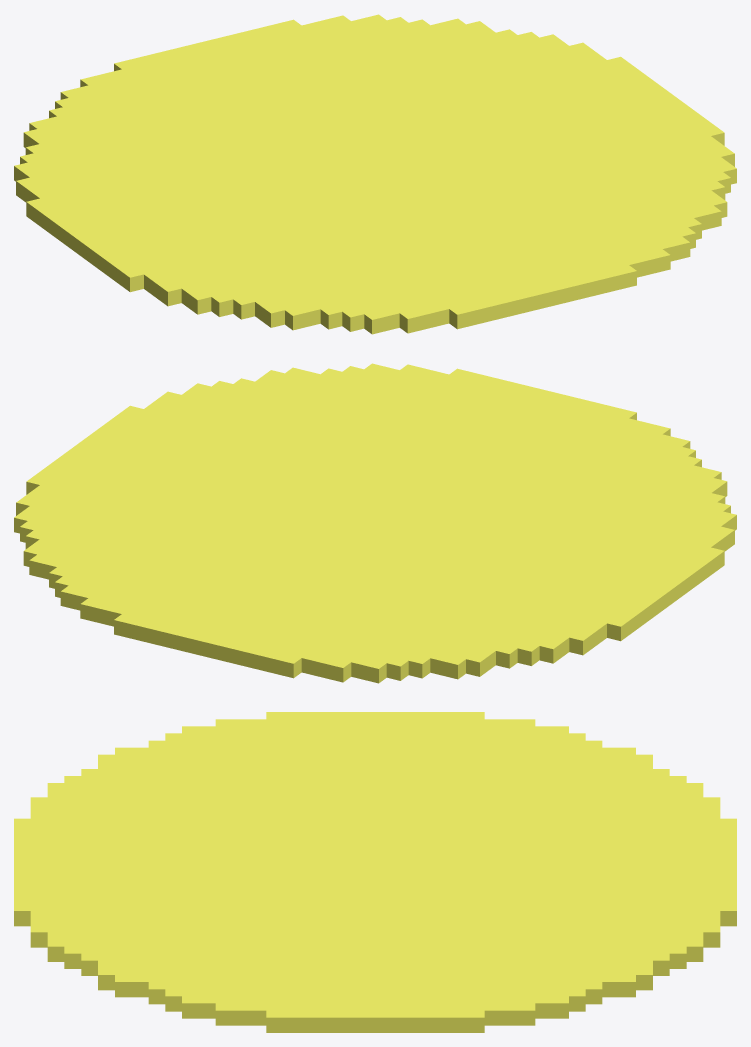
Rendered from YellowBall.obj.
3 views of the same model, one above another, from view 1: azimuth 30°, elevation 25°; view 2: azimuth 150°, elevation 25°; view 3: azimuth 270°, elevation 25° (orthographic). The views are drawn at different scales.
Bounding box in the file's own units: 43 × 1 × 43.
Materials: 1 (1 with a texture image).
